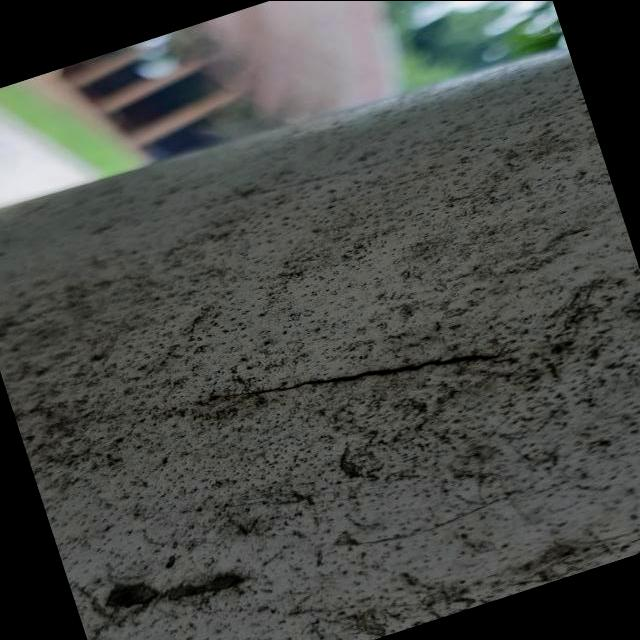defect: (203, 350, 531, 401)
